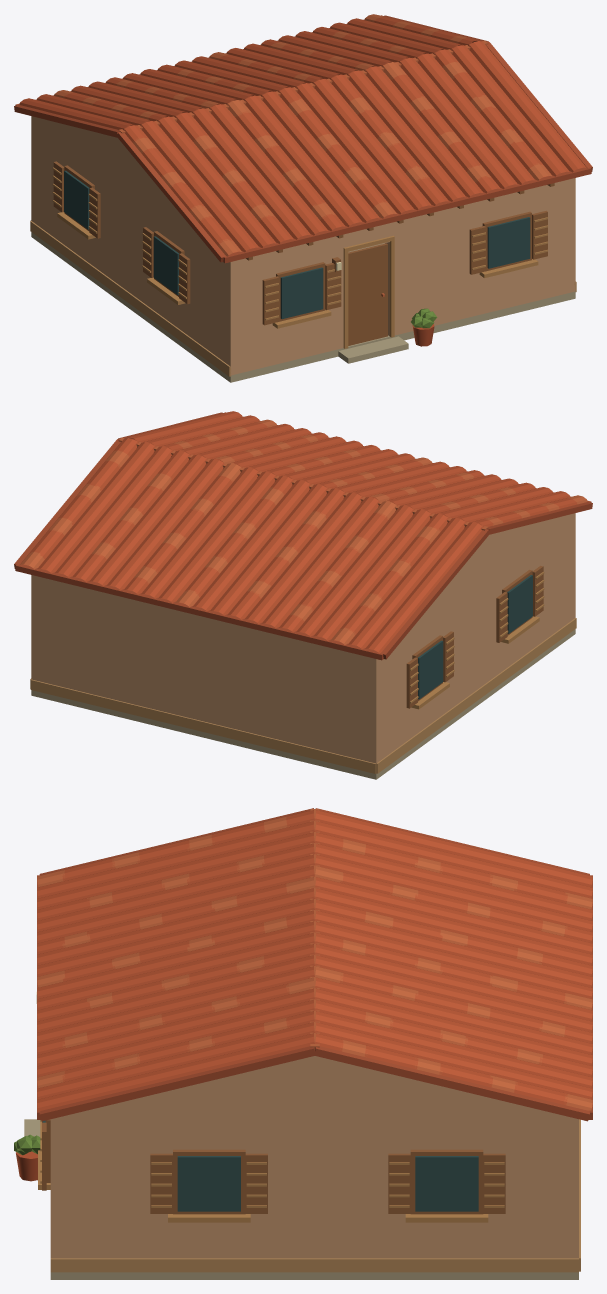
The model's file is buildings.glb.
The picture shows the model from 3 angles, top to bottom: view 1: azimuth 30°, elevation 25°; view 2: azimuth 150°, elevation 25°; view 3: azimuth 270°, elevation 25°; orthographic projection. The views are drawn at different scales.
Parts seen in each view (by area): view 1: adobe-gable; view 2: adobe-gable; view 3: adobe-gable.
Part boxes in pixels (x1=…): adobe-gable: x1=14, y1=14, x2=592, y2=382; adobe-gable: x1=14, y1=411, x2=592, y2=779; adobe-gable: x1=14, y1=808, x2=592, y2=1279.
Size of the model in its own units: 8.62 by 4.09 by 8.77.
